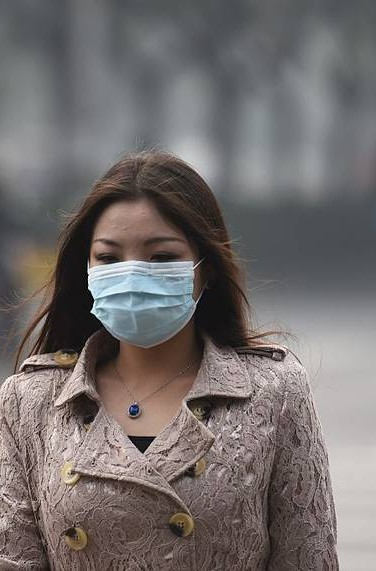with_mask: (72, 193, 214, 354)
